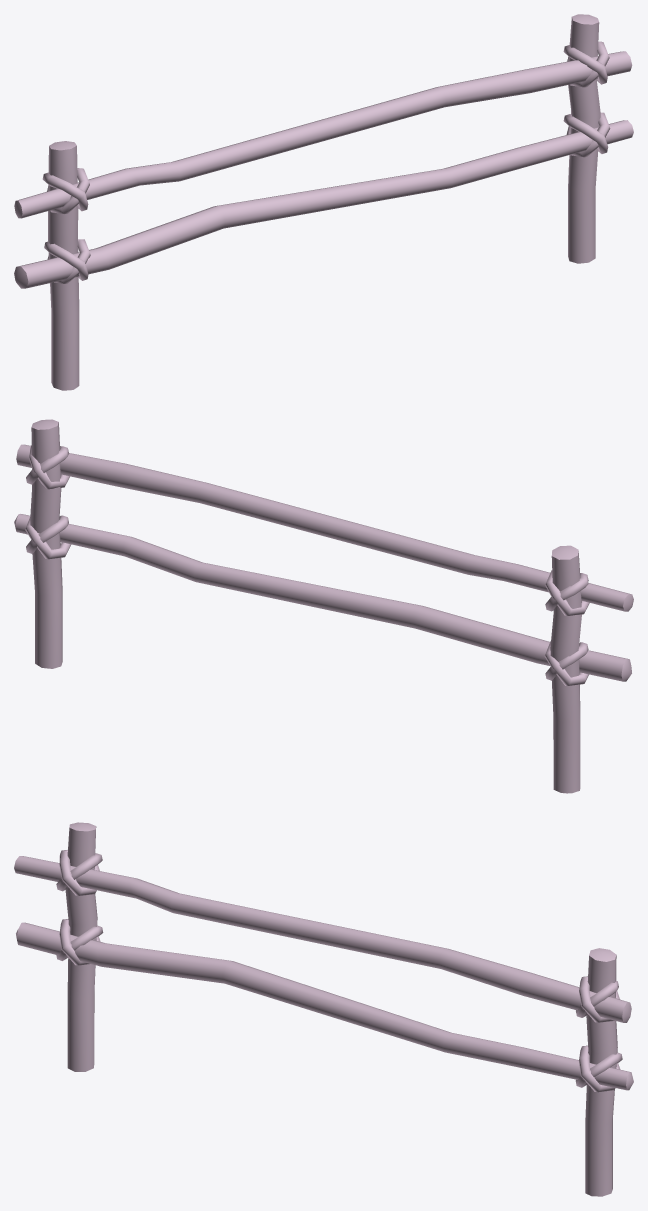
The model's file is fence_01.fbx.
3 views of the same model, one above another, from view 1: azimuth 30°, elevation 25°; view 2: azimuth 150°, elevation 25°; view 3: azimuth 330°, elevation 25° (orthographic).
Visible parts, largest first — view 1: Cylinder.010; view 2: Cylinder.010; view 3: Cylinder.010.
Part boxes in pixels (x1=…): Cylinder.010: x1=14, y1=14, x2=633, y2=390; Cylinder.010: x1=14, y1=419, x2=633, y2=793; Cylinder.010: x1=14, y1=822, x2=633, y2=1196.
Size of the model in its own units: 4.06 by 1.54 by 0.3465.
